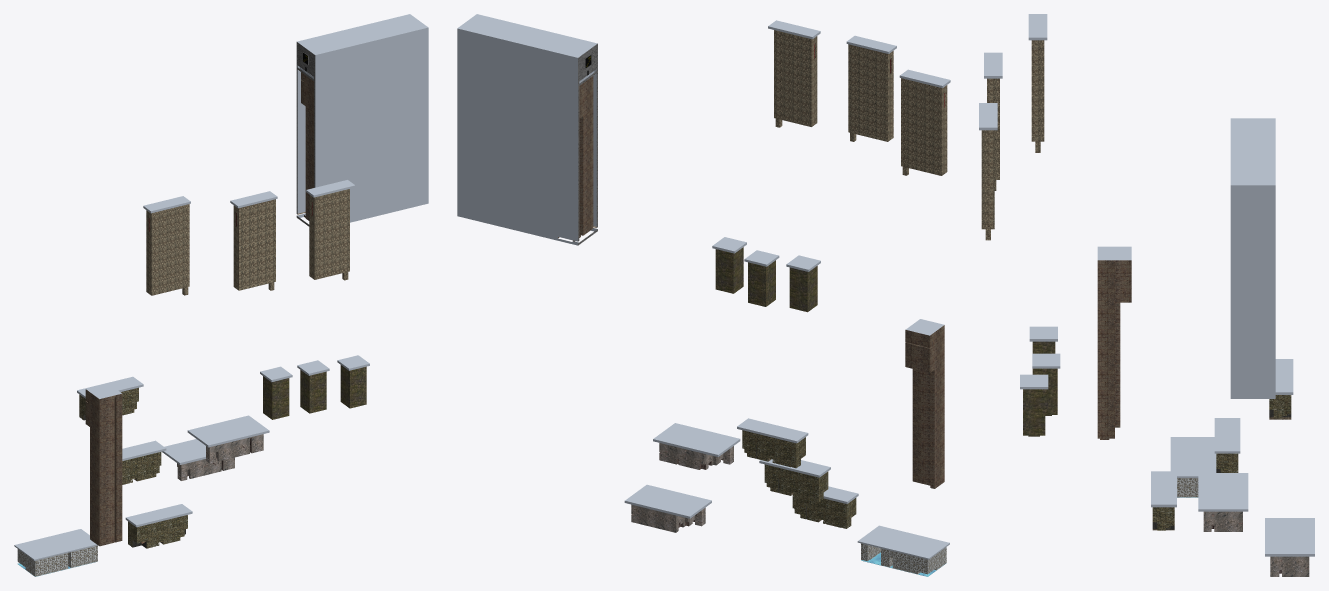
File: kzru_airway.glb
The picture shows the model from 3 angles, left to right: view 1: azimuth 30°, elevation 25°; view 2: azimuth 150°, elevation 25°; view 3: azimuth 270°, elevation 25°; orthographic projection. The views are drawn at different scales.
Visible parts, largest first — view 1: kzru_airway_sky, kzru_airway_static; view 2: kzru_airway_sky, kzru_airway_static; view 3: kzru_airway_sky, kzru_airway_static.
Boxes of the visible parts, bbox=[...] form: kzru_airway_sky: bbox=[14, 14, 428, 560]; kzru_airway_static: bbox=[17, 42, 366, 576]; kzru_airway_sky: bbox=[457, 14, 950, 559]; kzru_airway_static: bbox=[558, 30, 947, 576]; kzru_airway_sky: bbox=[979, 14, 1314, 556]; kzru_airway_static: bbox=[981, 40, 1309, 576].
Size of the model in its own units: 170 by 167 by 97.36.
39 materials, 38 textured.
